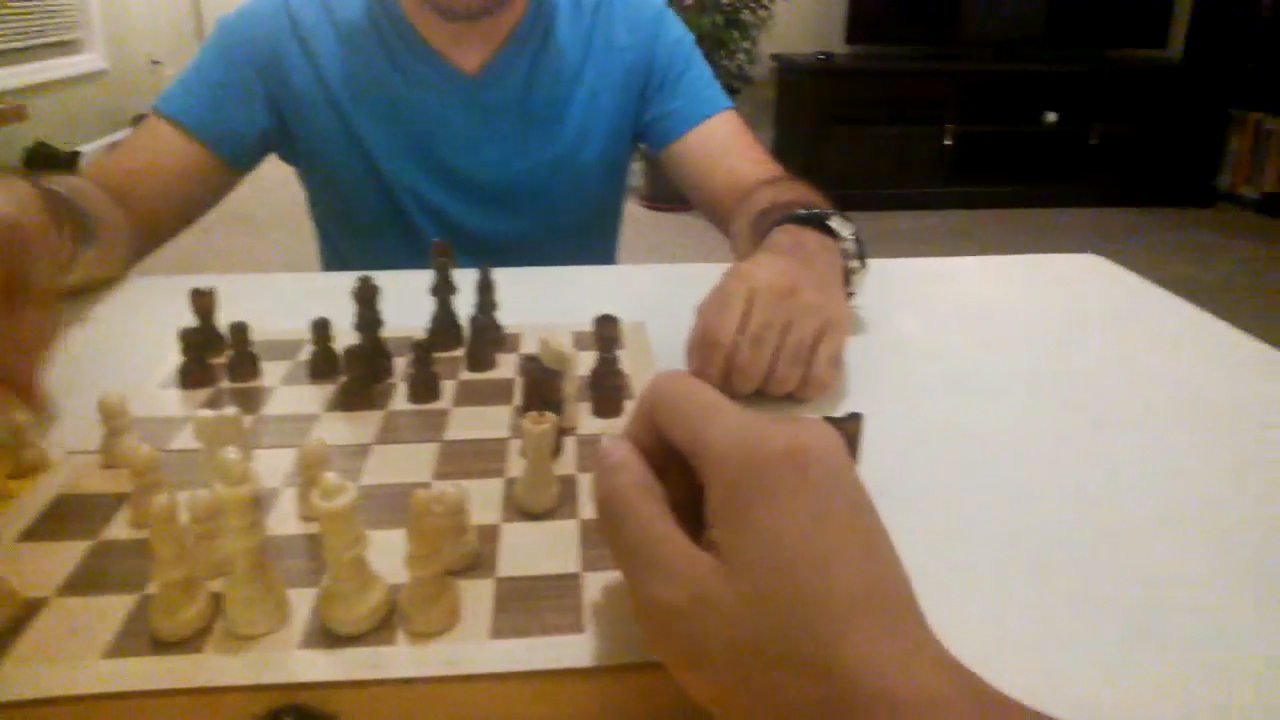hand: (584, 366, 1058, 718), (684, 253, 855, 398), (5, 178, 50, 427)
